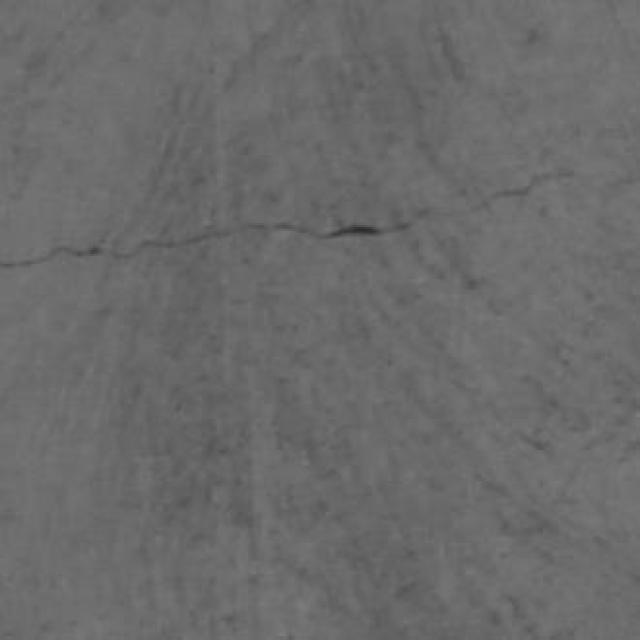crack: (0, 208, 434, 269), (0, 222, 413, 269)
